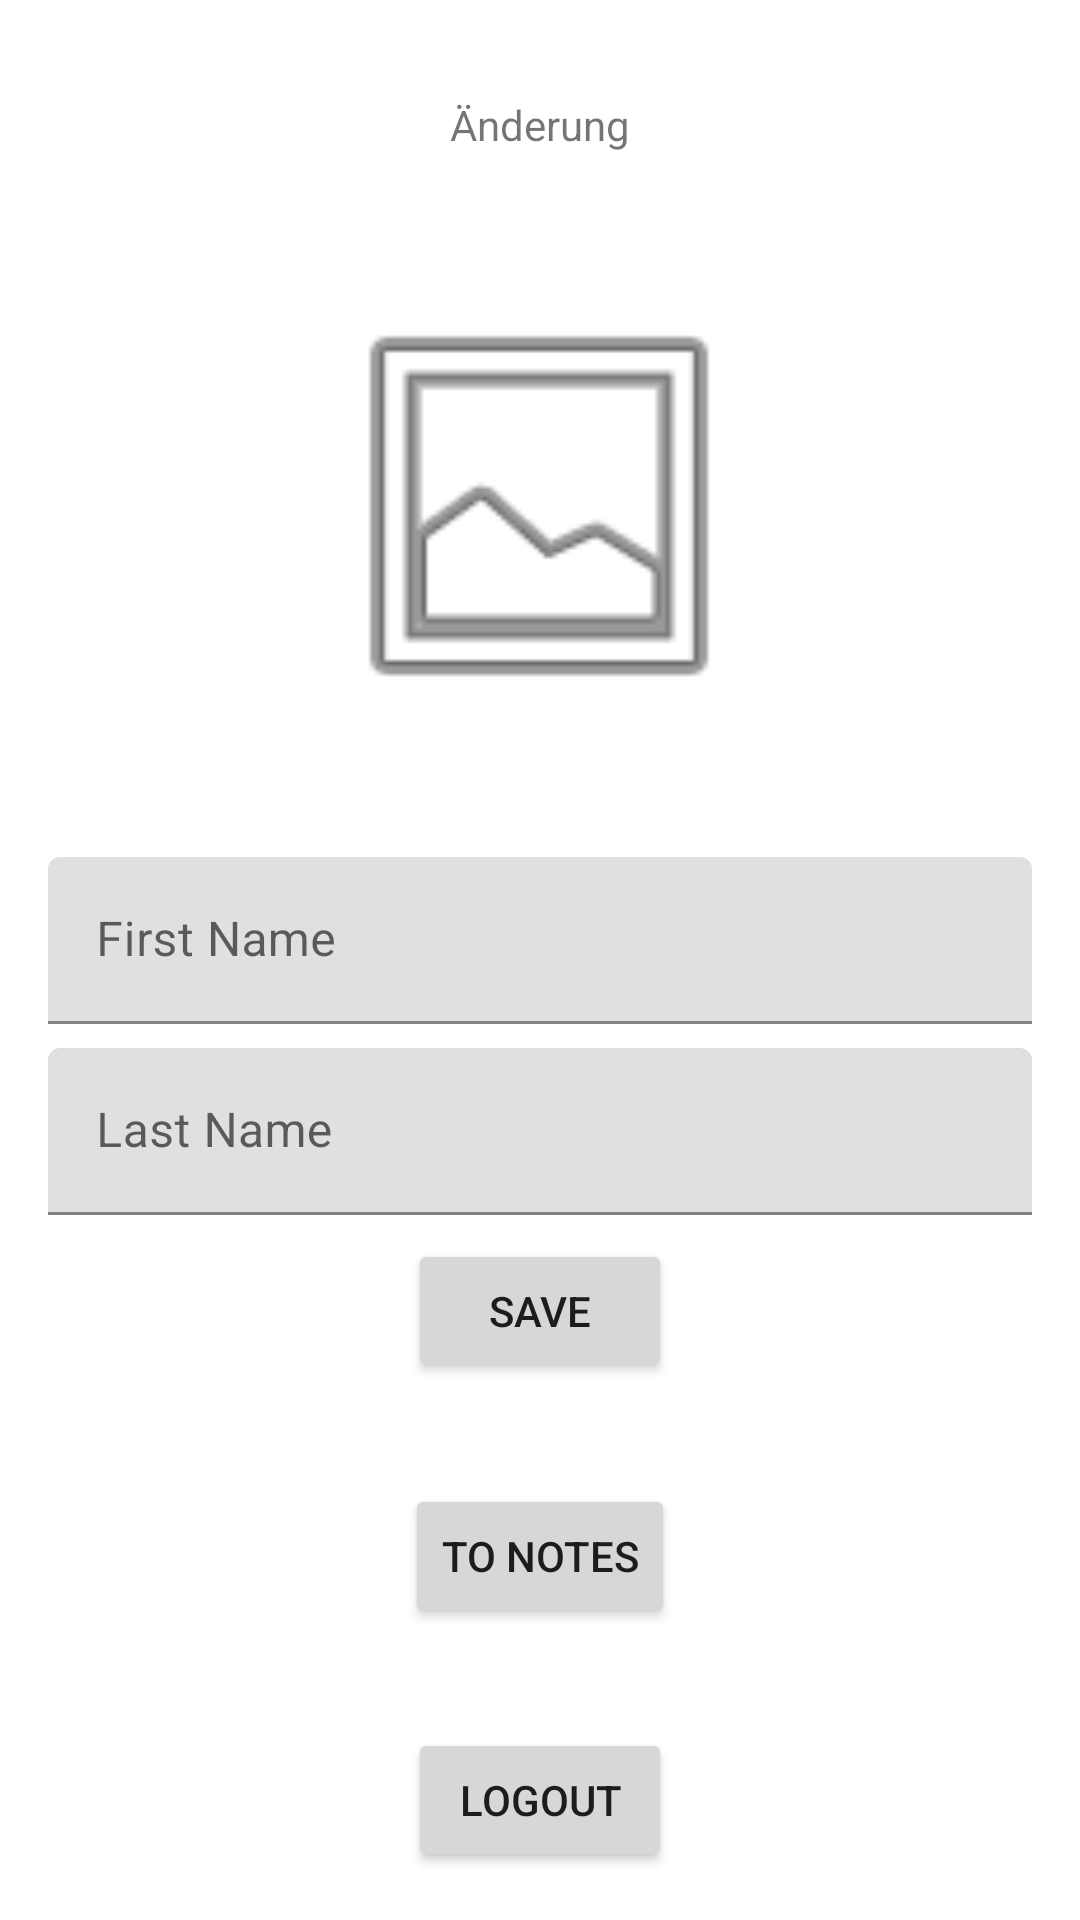

Where icons sit on this 1080 x 1920 app screen, as (x1, y1, x2, y2):
gallery: (369, 336, 709, 676)
